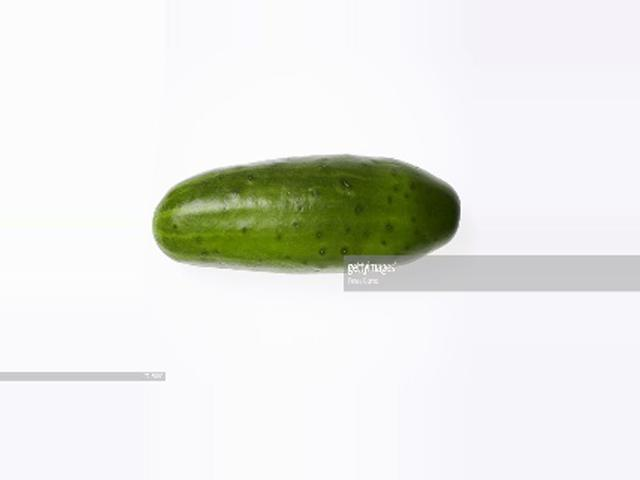cucumber: (150, 153, 464, 273)
